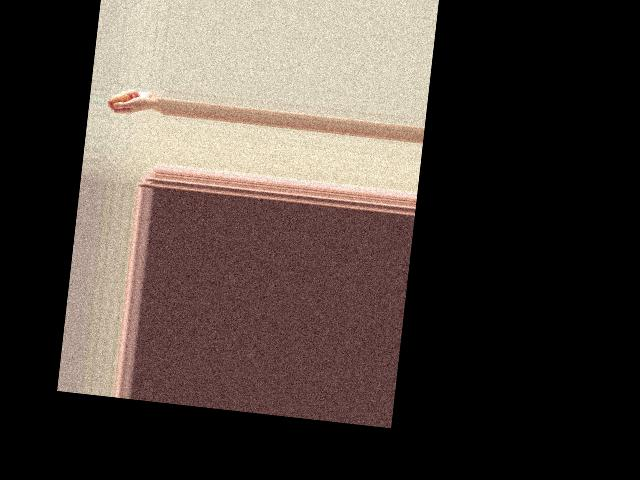egg: (110, 91, 131, 108)
